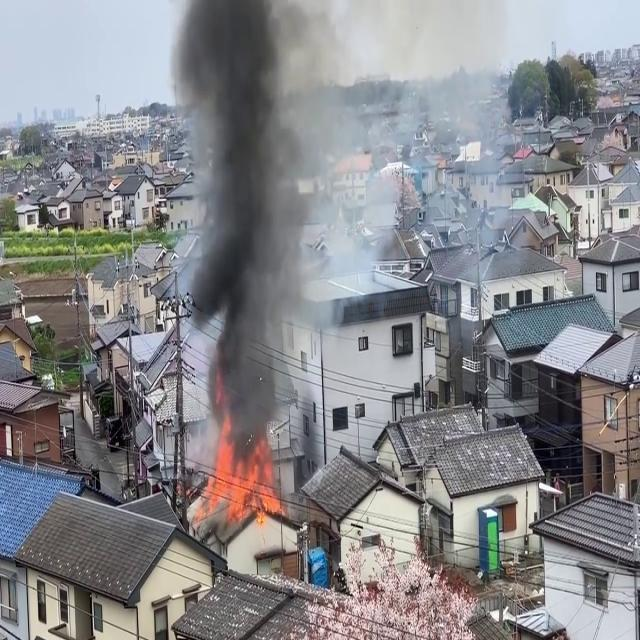Fire: (192, 432, 284, 526)
Smoke: (167, 0, 337, 458)
